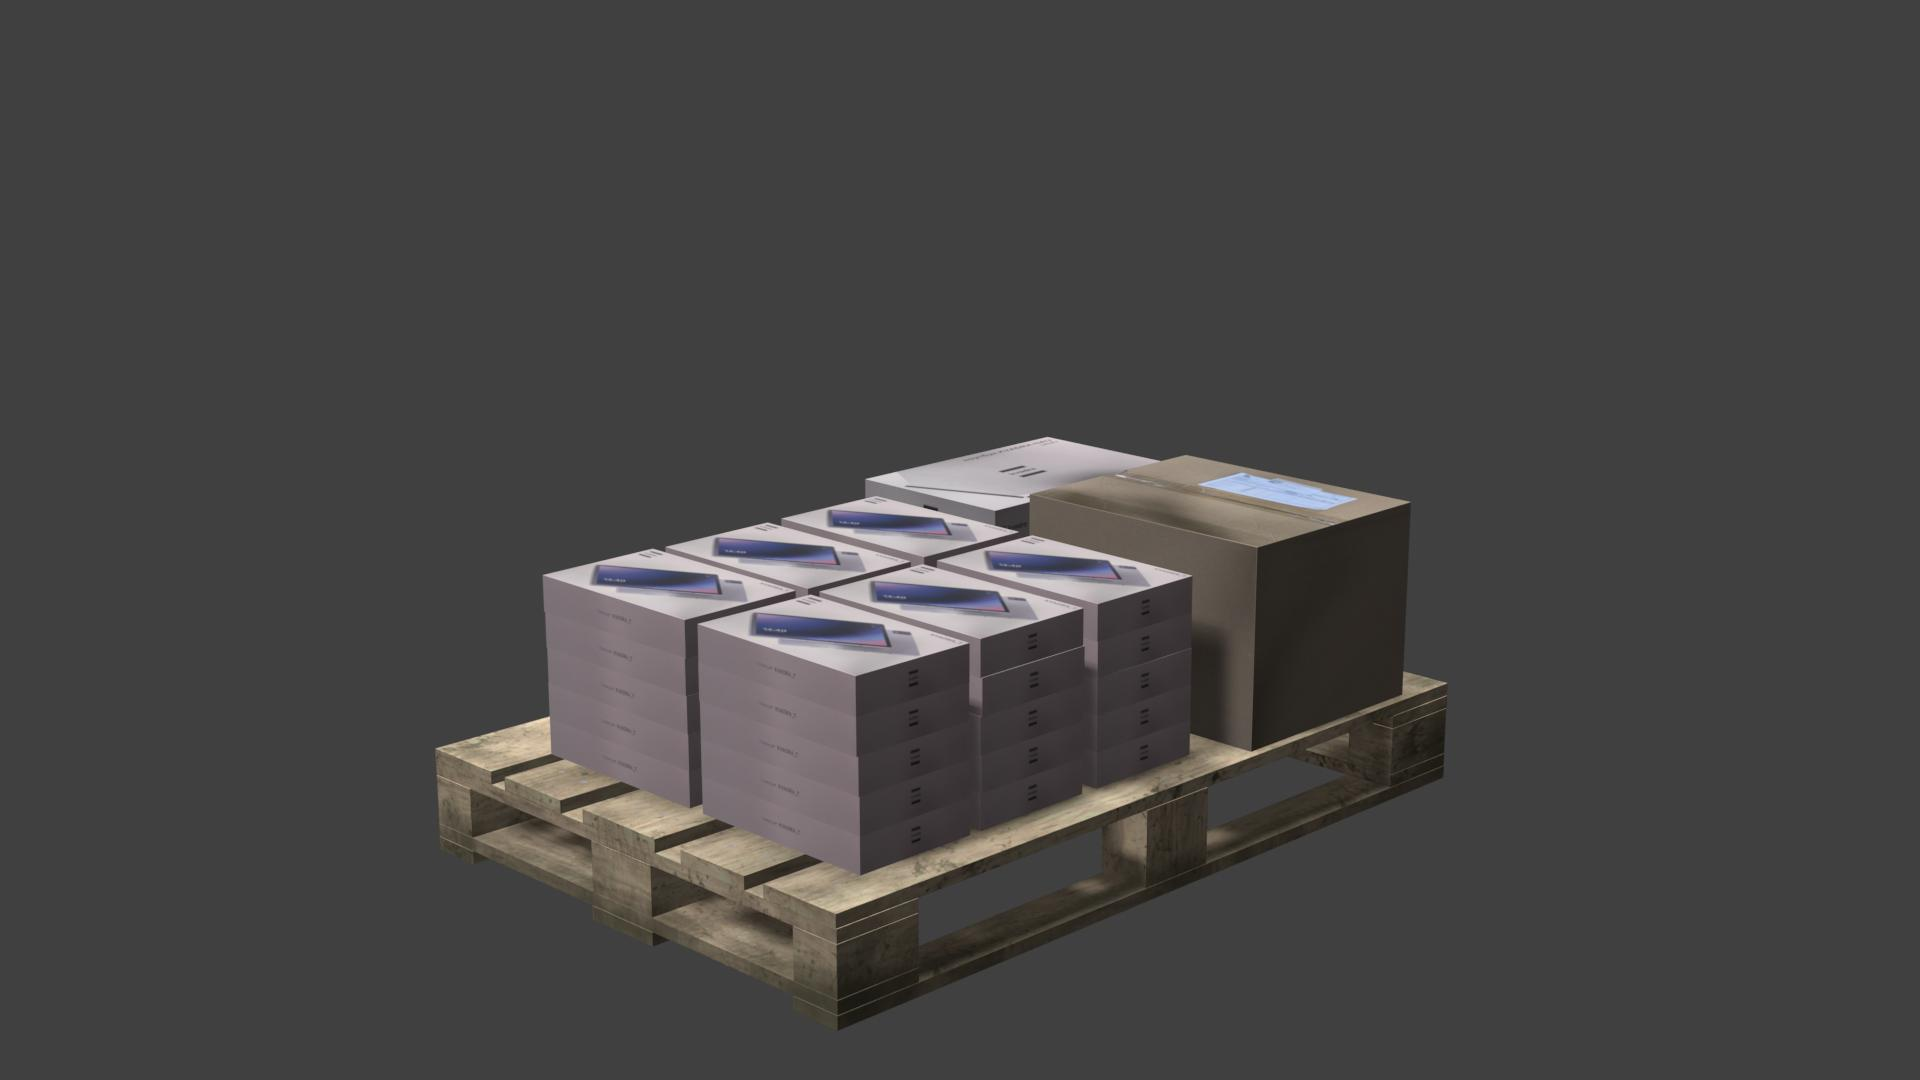group_box_left: (1029, 497, 1410, 749)
group_box_top: (1030, 456, 1406, 549)
laptop_left: (865, 483, 1030, 537)
laptop_top: (866, 436, 1158, 512)
palet: (434, 673, 1451, 1034)
tablet_left: (700, 777, 971, 876), (700, 702, 969, 796), (702, 741, 969, 836), (700, 665, 971, 757), (698, 626, 969, 717), (542, 576, 687, 658), (546, 616, 688, 698), (551, 723, 688, 807), (550, 691, 691, 771), (550, 655, 691, 735), (977, 760, 1081, 833), (976, 724, 1083, 794), (977, 684, 1083, 753), (1089, 719, 1191, 789), (980, 611, 1084, 678), (981, 647, 1085, 715), (1091, 613, 1193, 679), (1092, 686, 1191, 752), (1091, 651, 1191, 716), (1091, 578, 1193, 640)
tablet_top: (700, 595, 964, 676), (824, 564, 1079, 641), (543, 549, 794, 620), (942, 535, 1191, 604), (667, 524, 909, 588), (785, 496, 1017, 556)
